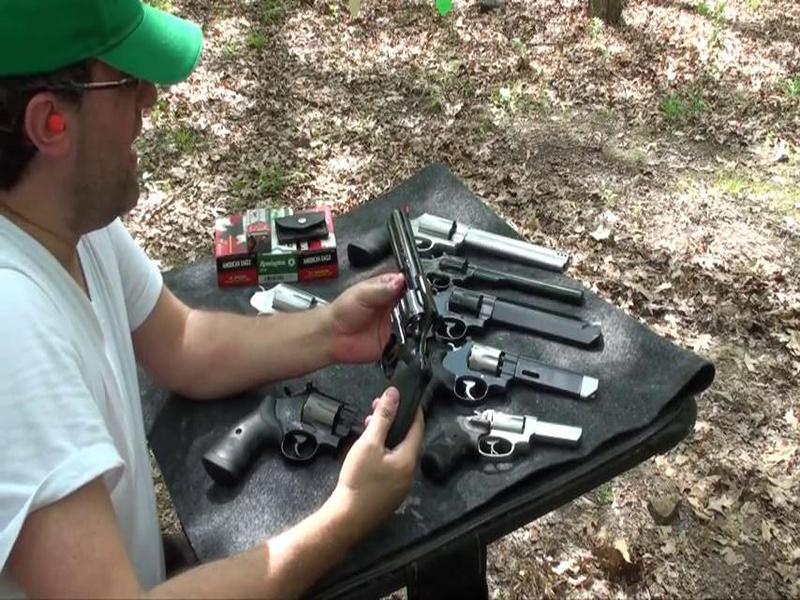Revolver: (334, 191, 453, 471)
